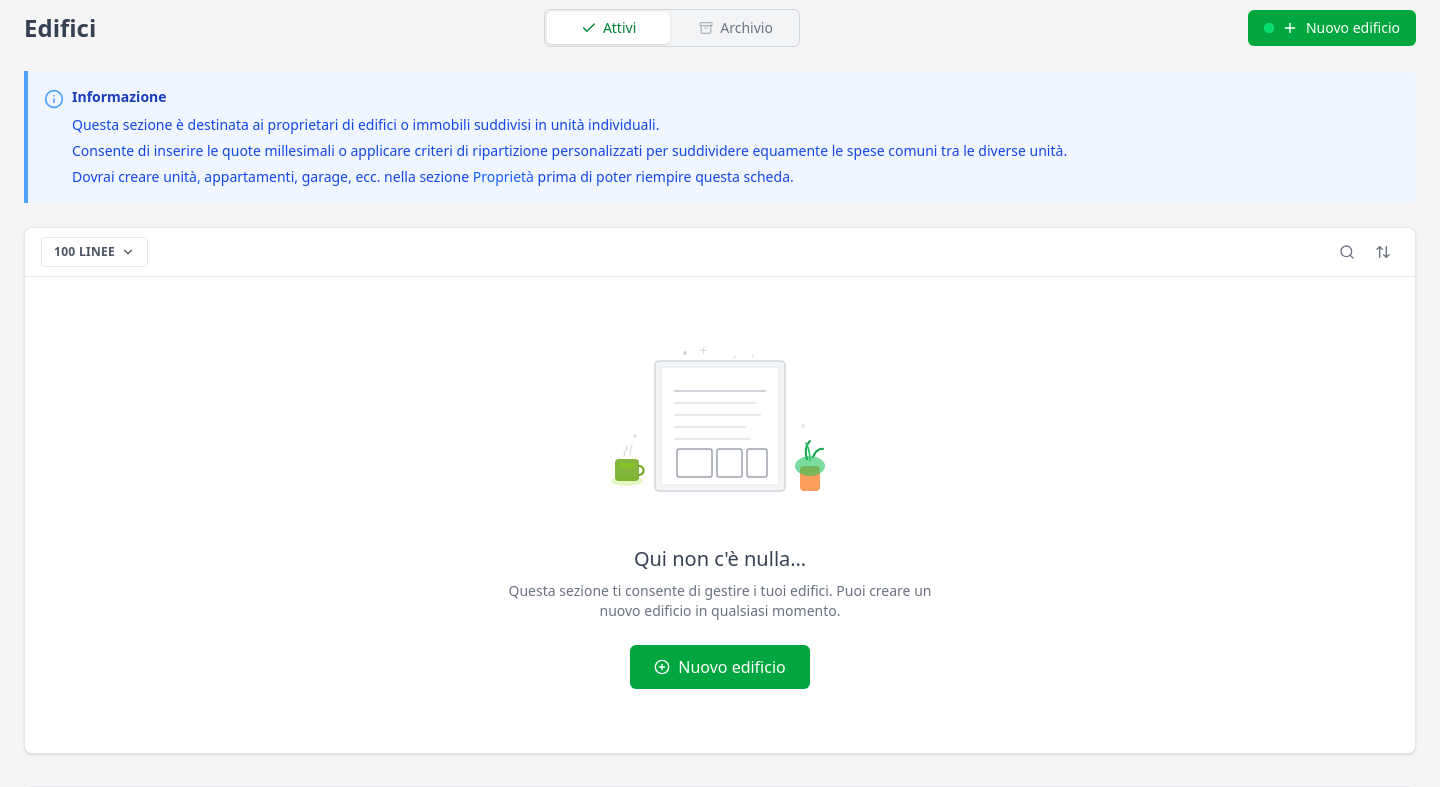
it: A3 consolidated building routing gate › attraversa header, create reale e dettaglio reale con ID e account corretti
Click the 1st button "Nuovo edificio".
click(1332, 28)  # box [1248,10,1416,46]
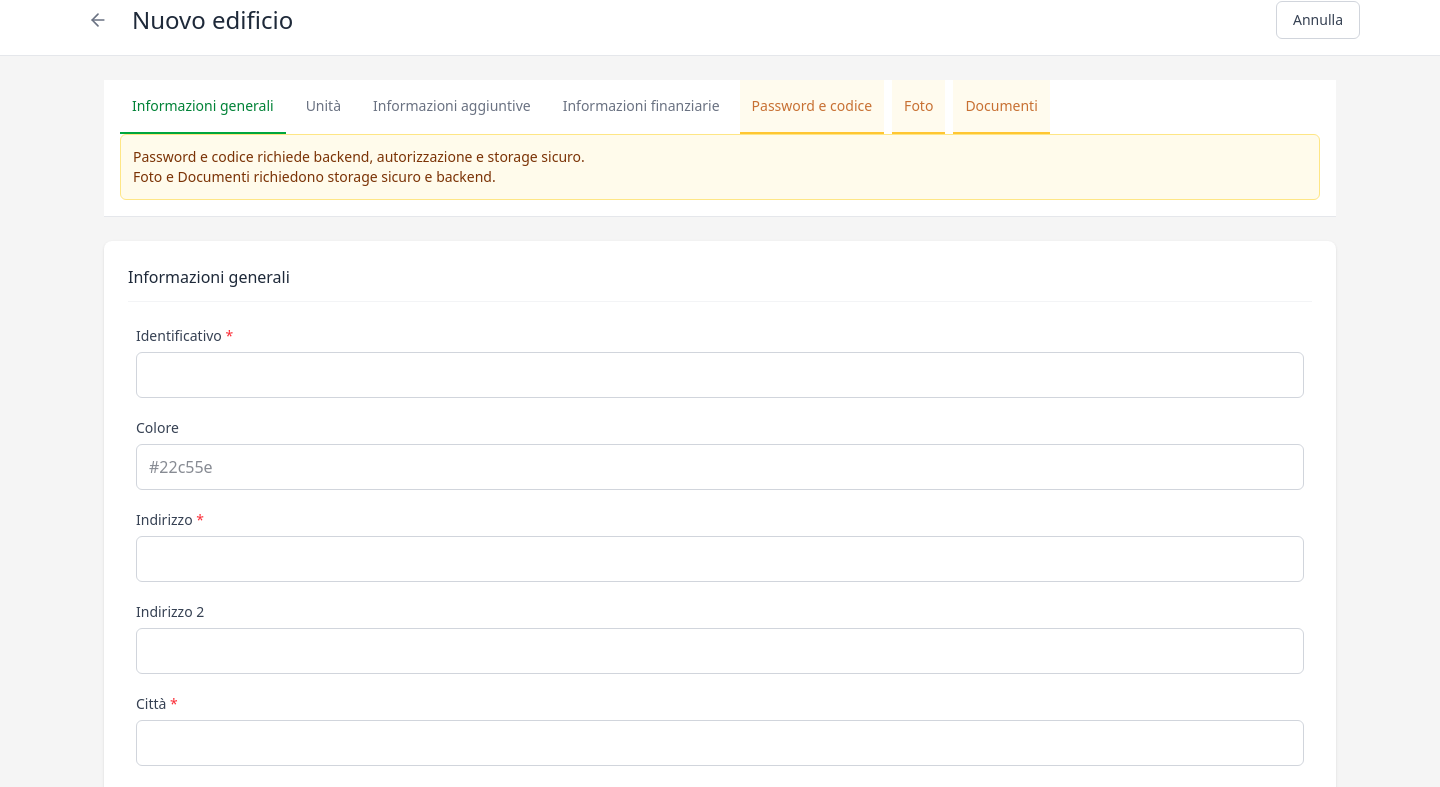
expect the heading "Nuovo edificio" is shown: met, box [132,4,293,36]
Type "Edificio Gate A3" into the field with id "identifier".
click(720, 375); type("Edificio Gate A3")  # box [136,352,1304,398]
Type "Via Gate 30" into the field with id "address".
click(720, 559); type("Via Gate 30")  # box [136,536,1304,582]
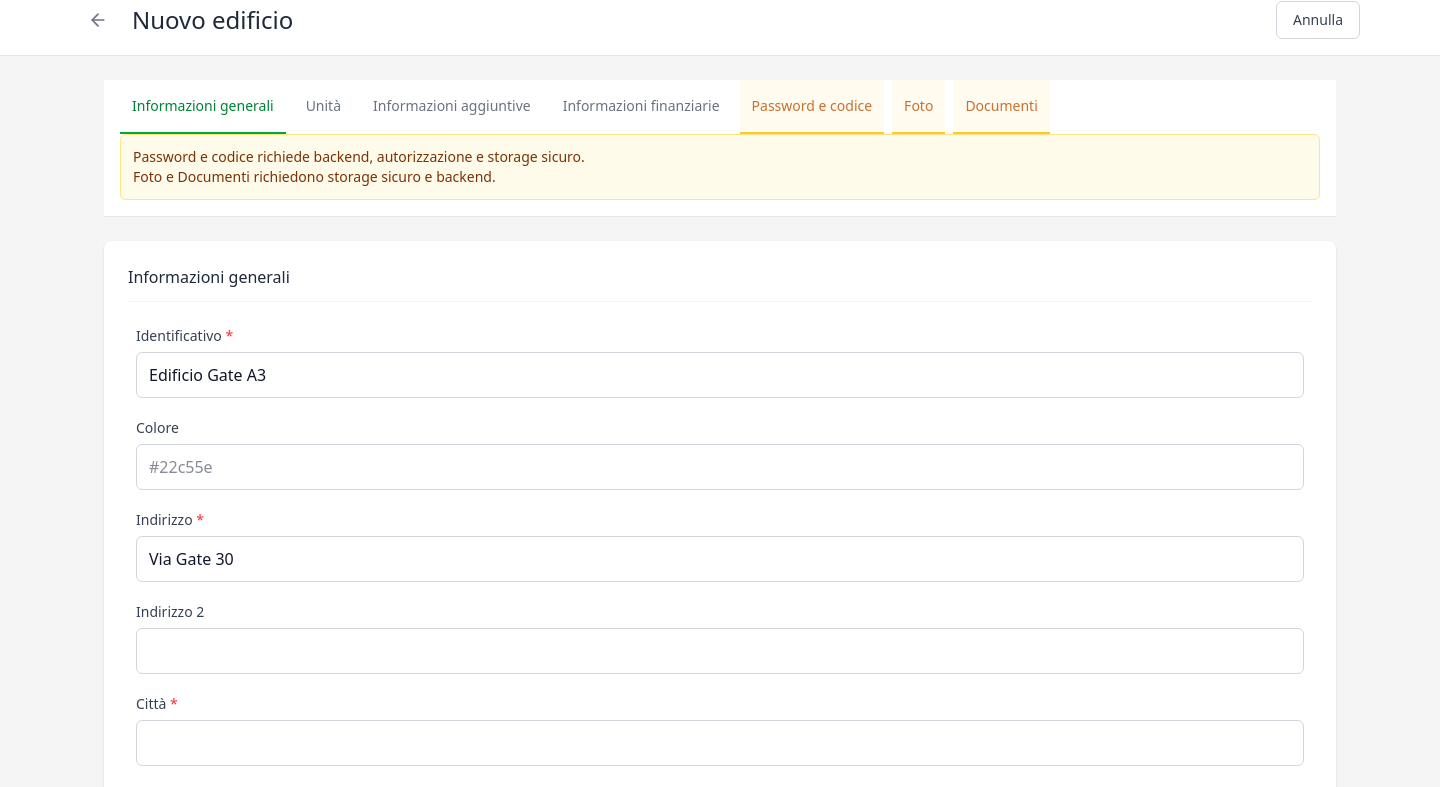
Type "Roma" into the field with id "city".
click(720, 743); type("Roma")  # box [136,720,1304,766]
(page scrolled)
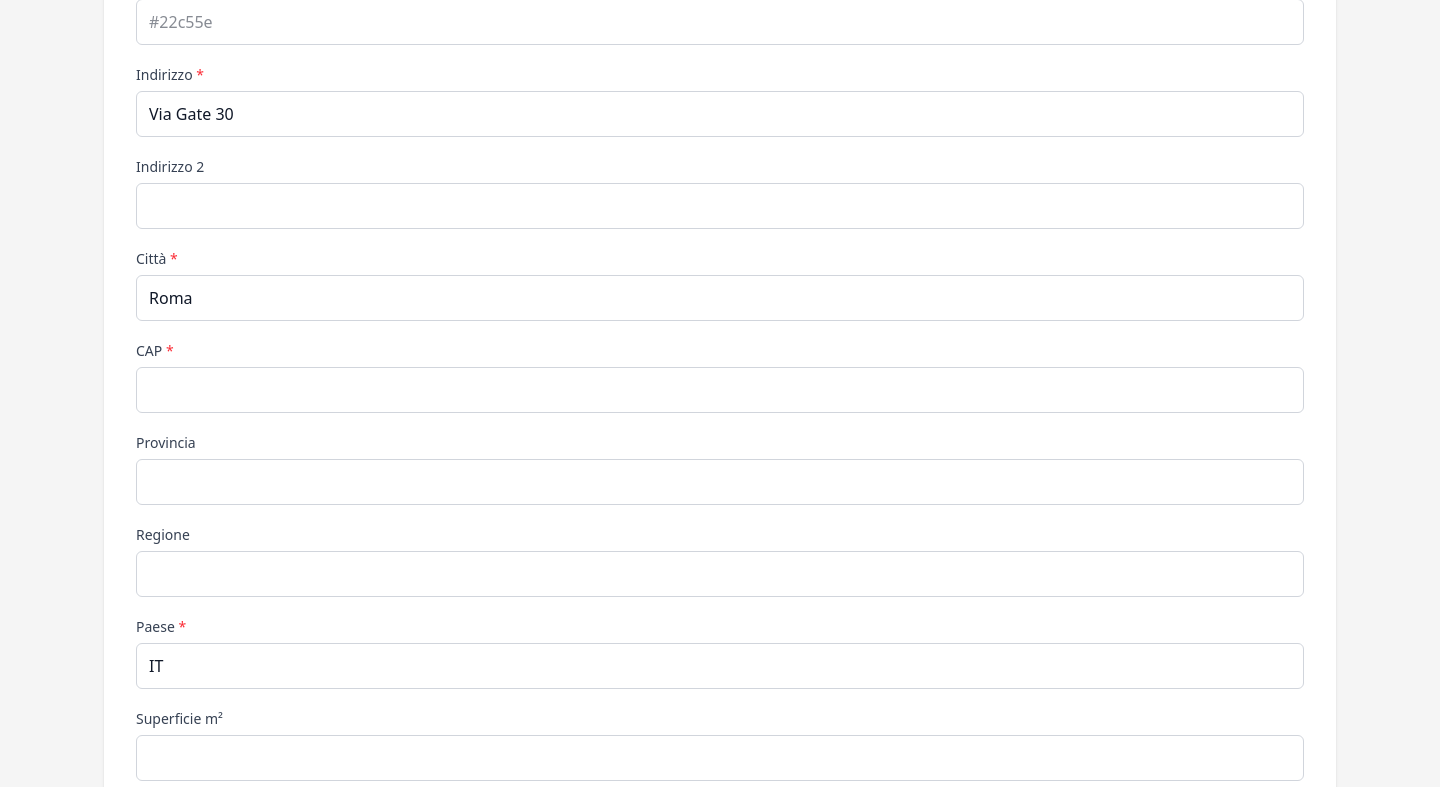
Type "00100" into the field labelled "CAP *".
click(720, 390); type("00100")  # box [136,367,1304,413]
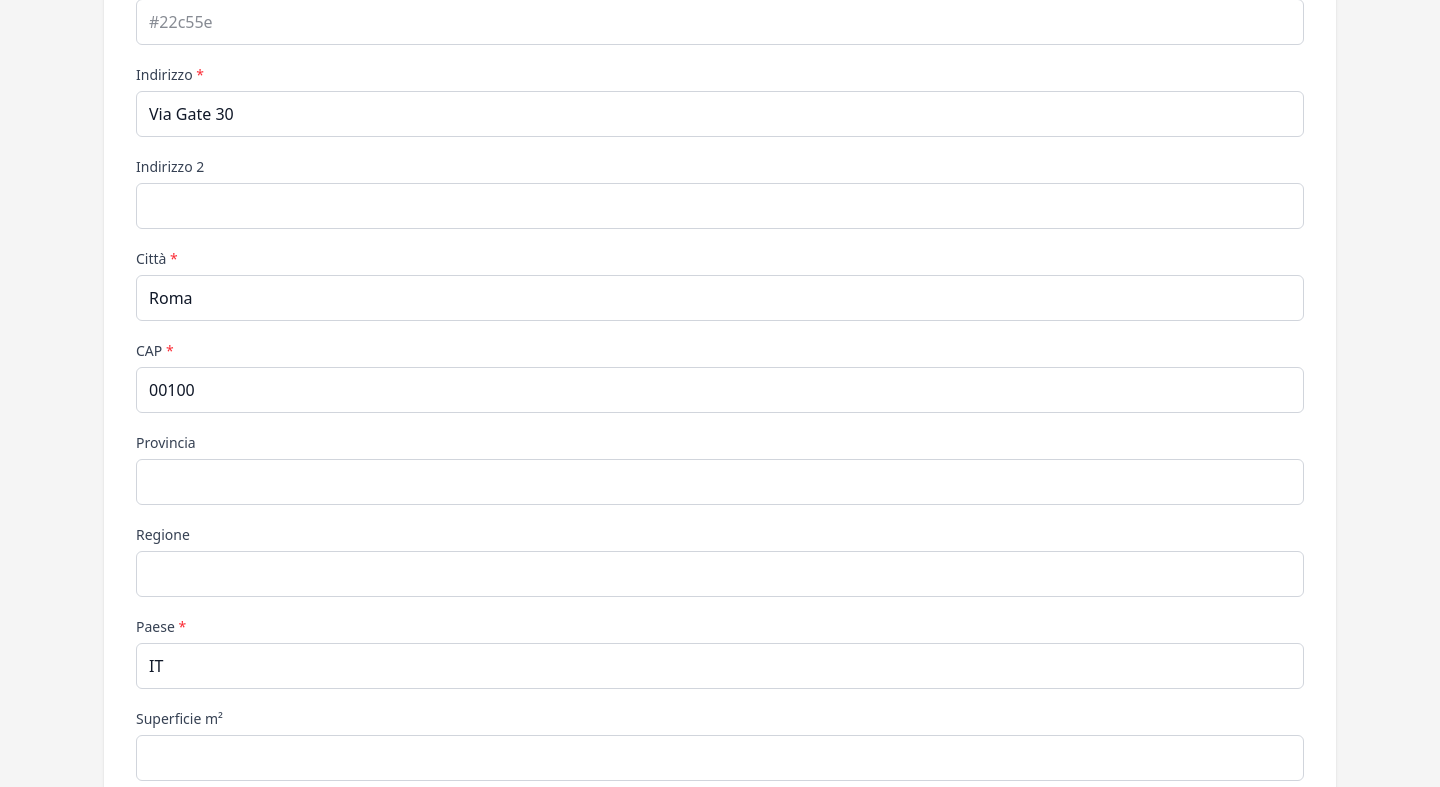
Replace the text in the field with id "country" with "it" at x=720, y=666, box [136,643,1304,689]
(page scrolled)
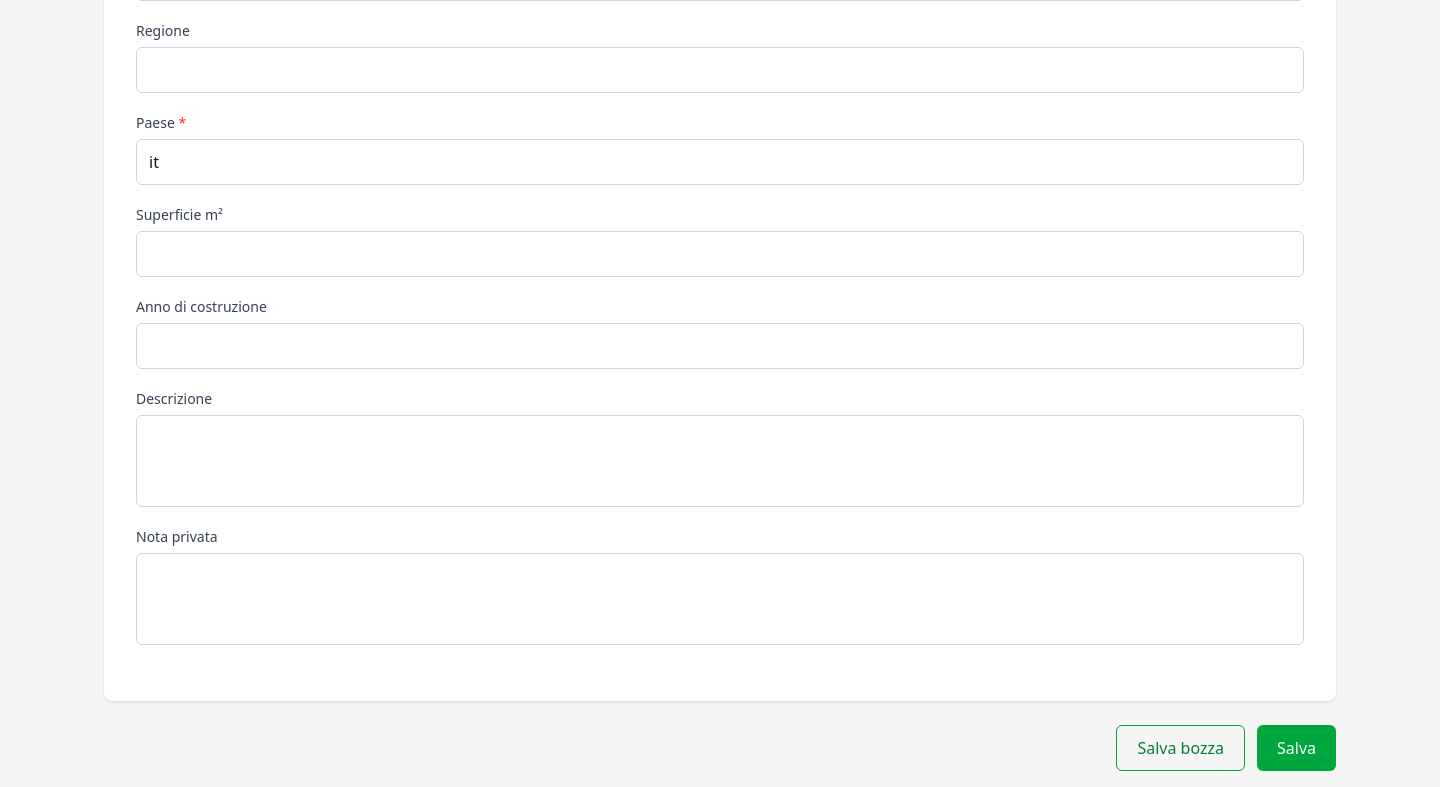
Click the button "Salva".
click(1296, 748)  # box [1257,725,1336,771]
(page scrolled)
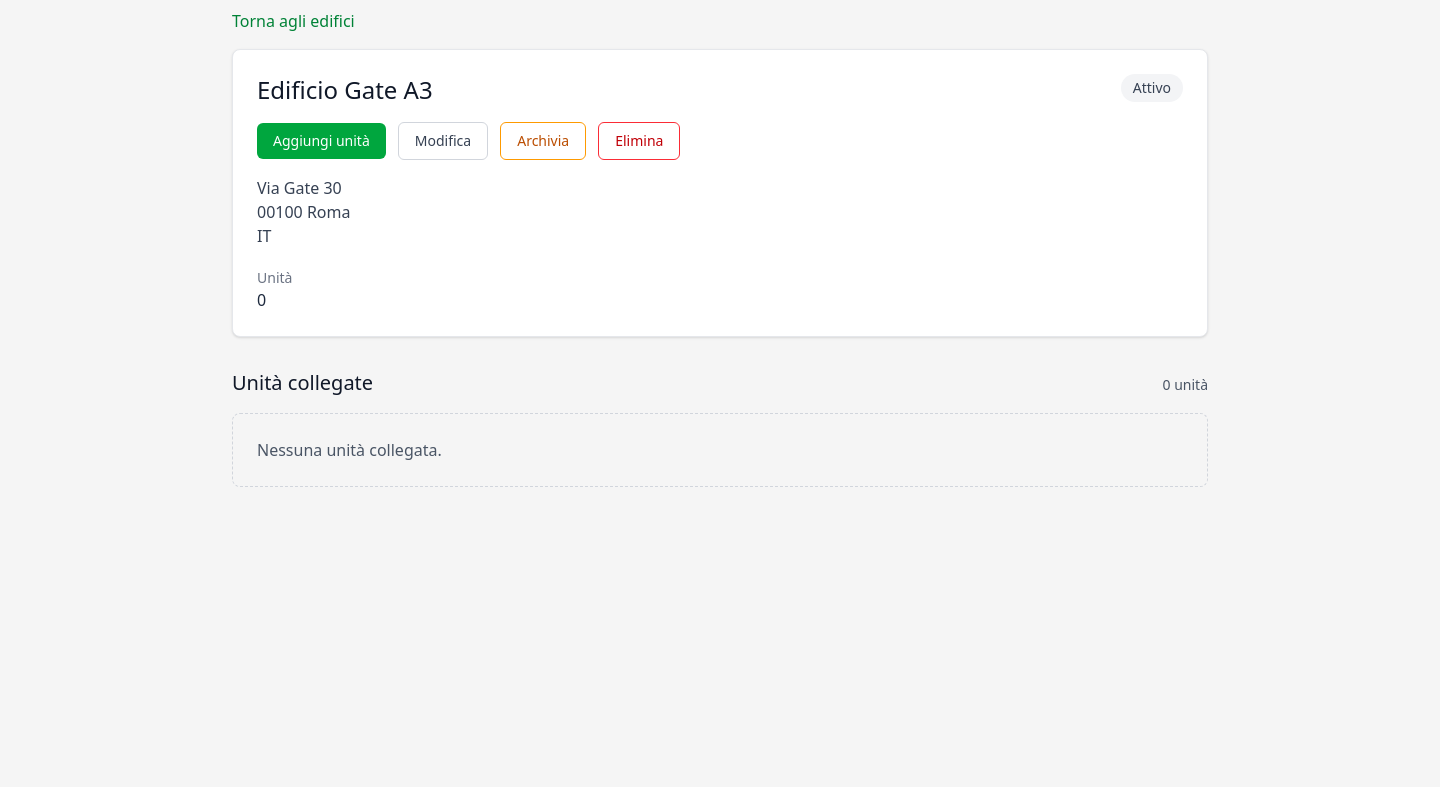
expect the heading "Edificio Gate A3" is shown: met, box [257,74,433,106]
expect the text "Via Gate 30" is shown: met, box [257,177,342,199]
expect the text "00100 Roma" is shown: met, box [257,201,350,223]
